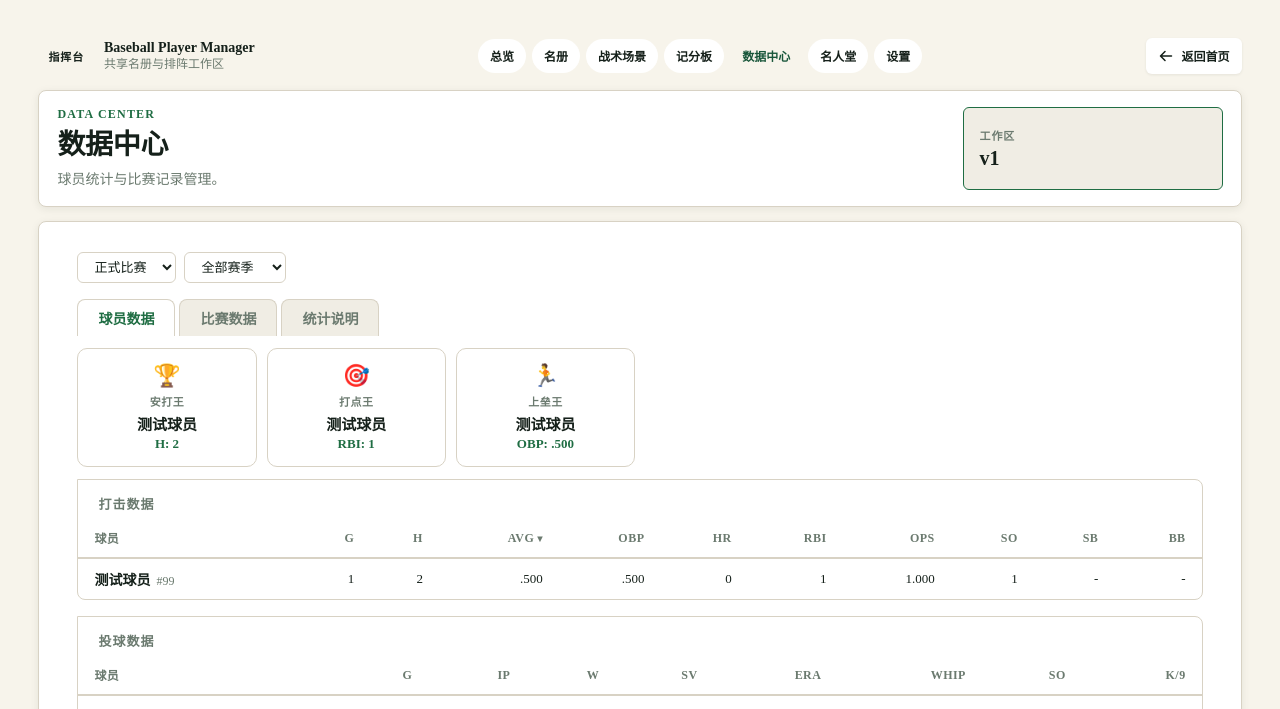
Test: StatsPageClient save lock & rollback › saves a new game and shows it in the game list
Click the button "比赛数据" at x=228, y=318, box [179, 299, 277, 336]
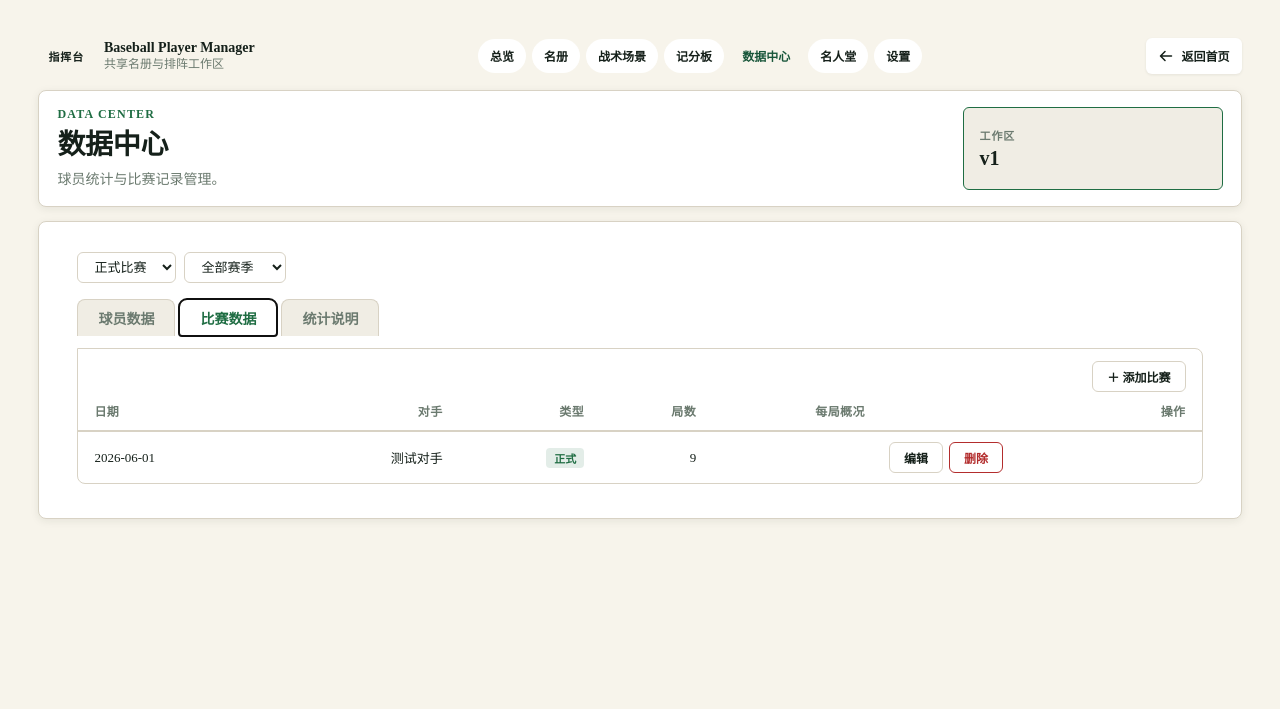
Click the button "＋ 添加比赛" at x=1139, y=377, box [1092, 361, 1186, 392]
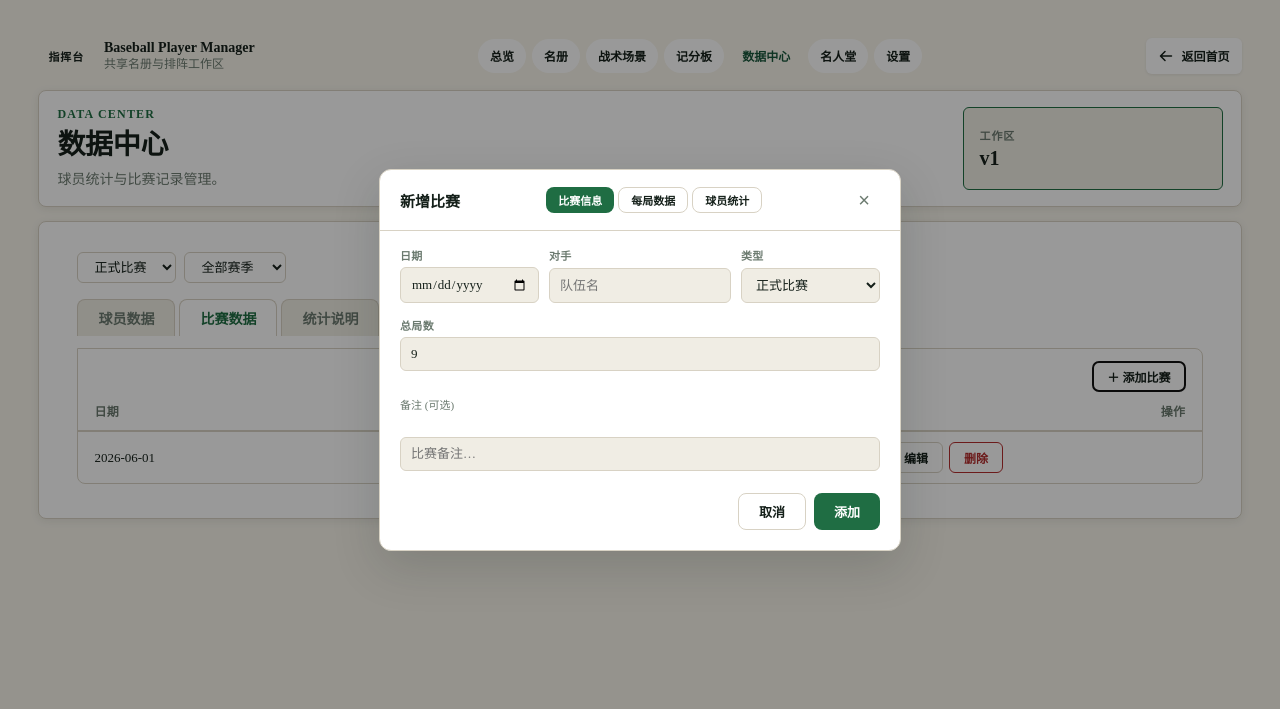
Expected: the dialog "新增比赛" is shown, [379, 169, 901, 551]
Type "2026-06-10" into the date field labelled "日期" at x=470, y=285, box [400, 267, 539, 303]
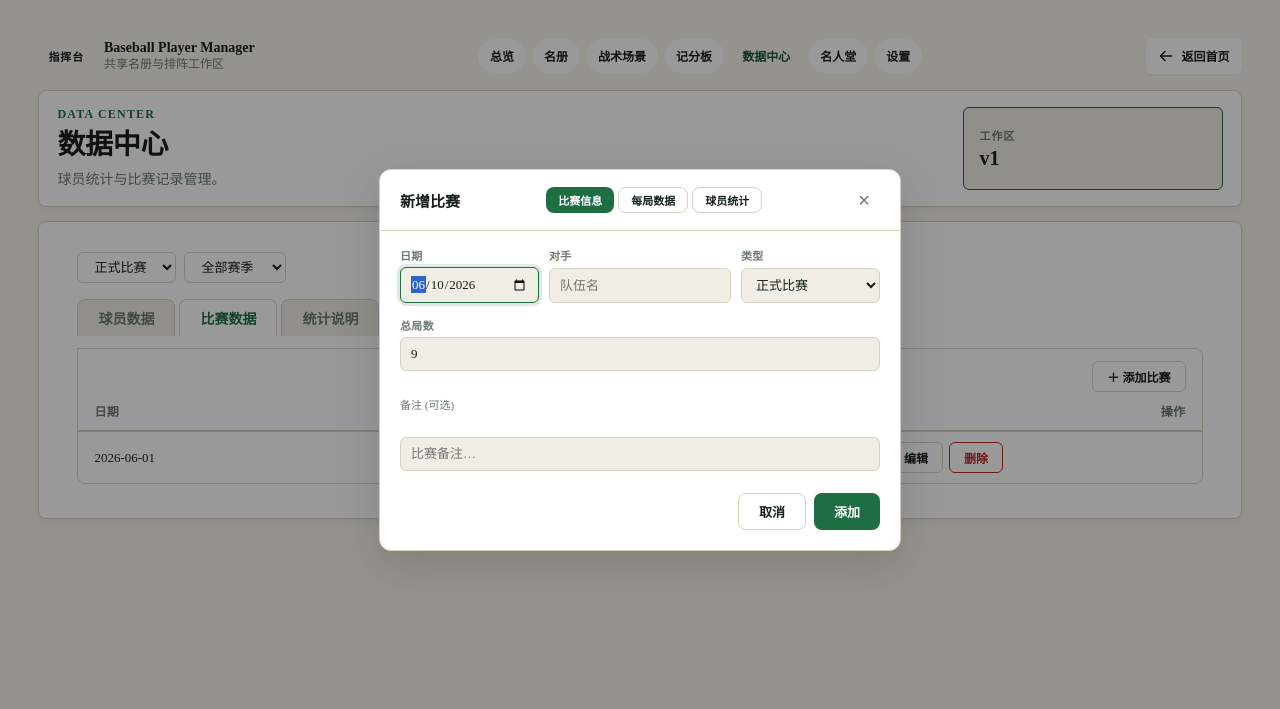
Type "新对手" into the field labelled "对手" at x=640, y=286, box [549, 268, 731, 303]
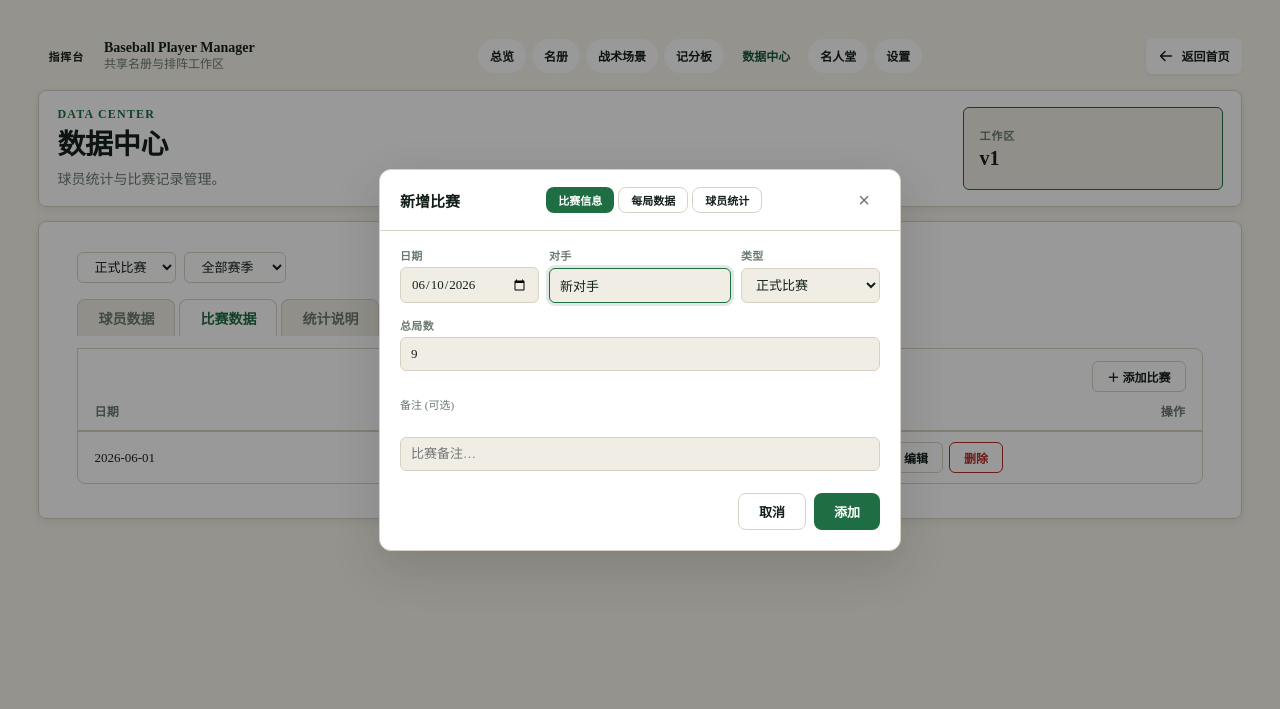
Click the button "添加" at x=847, y=512, box [814, 493, 880, 530]
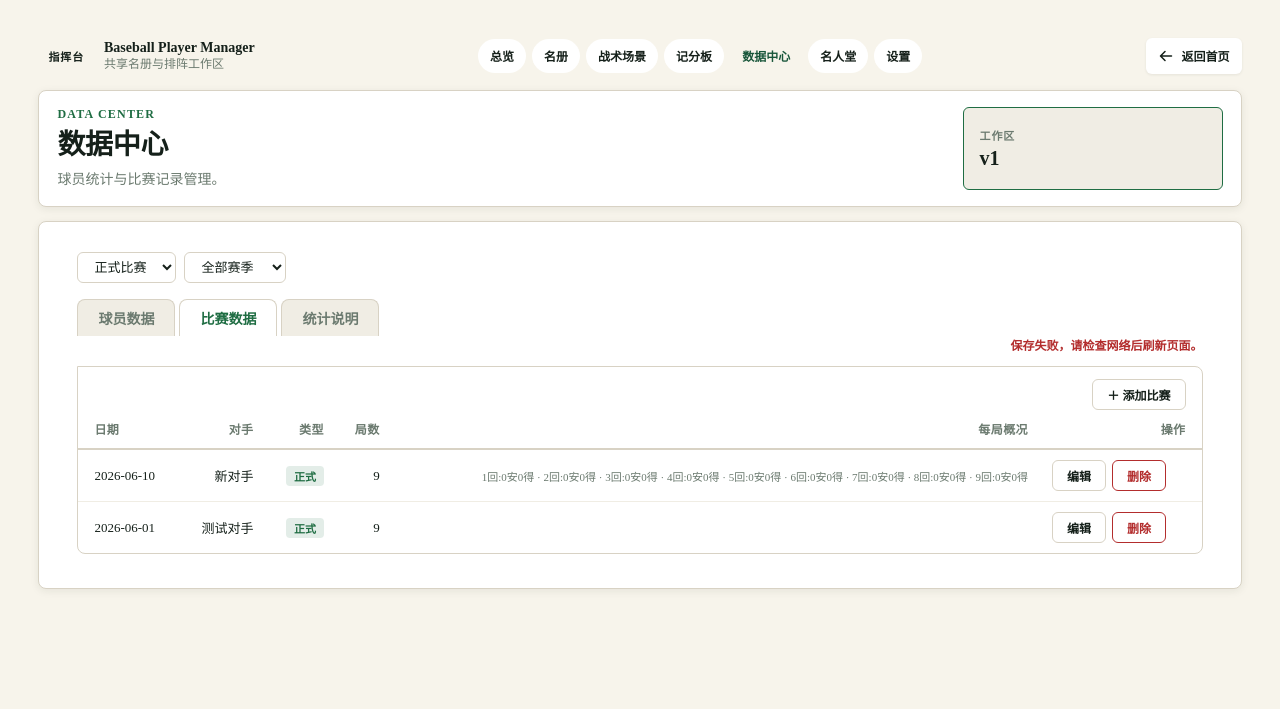
Expected: the text "新对手" is shown, [179, 449, 266, 502]
Expected: the text "2026-06-10" is shown, [78, 449, 179, 502]
